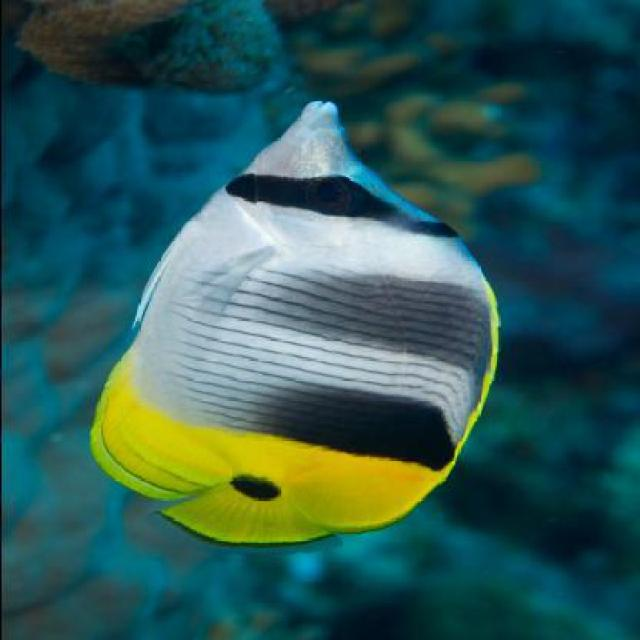ButterflyFish: (90, 99, 498, 540)
